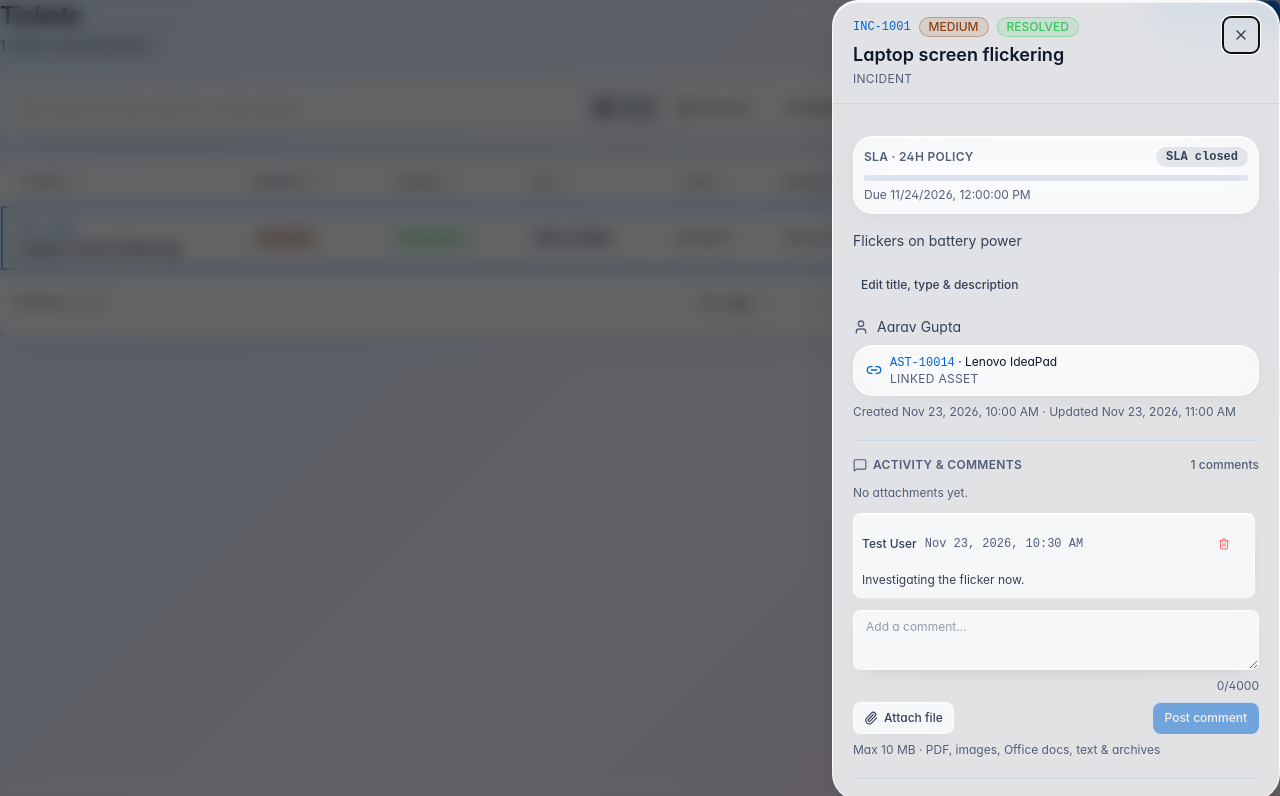
Test case: Tickets backfill B — issue 122 (TFE-18/19/22/23/24/25/27/28/30) › TFE-23: comment delete failure shows FieldError and resets confirm state
Click the button named "Delete comment". click: coordinates (1224, 544)
box: [1202,522,1246,566]
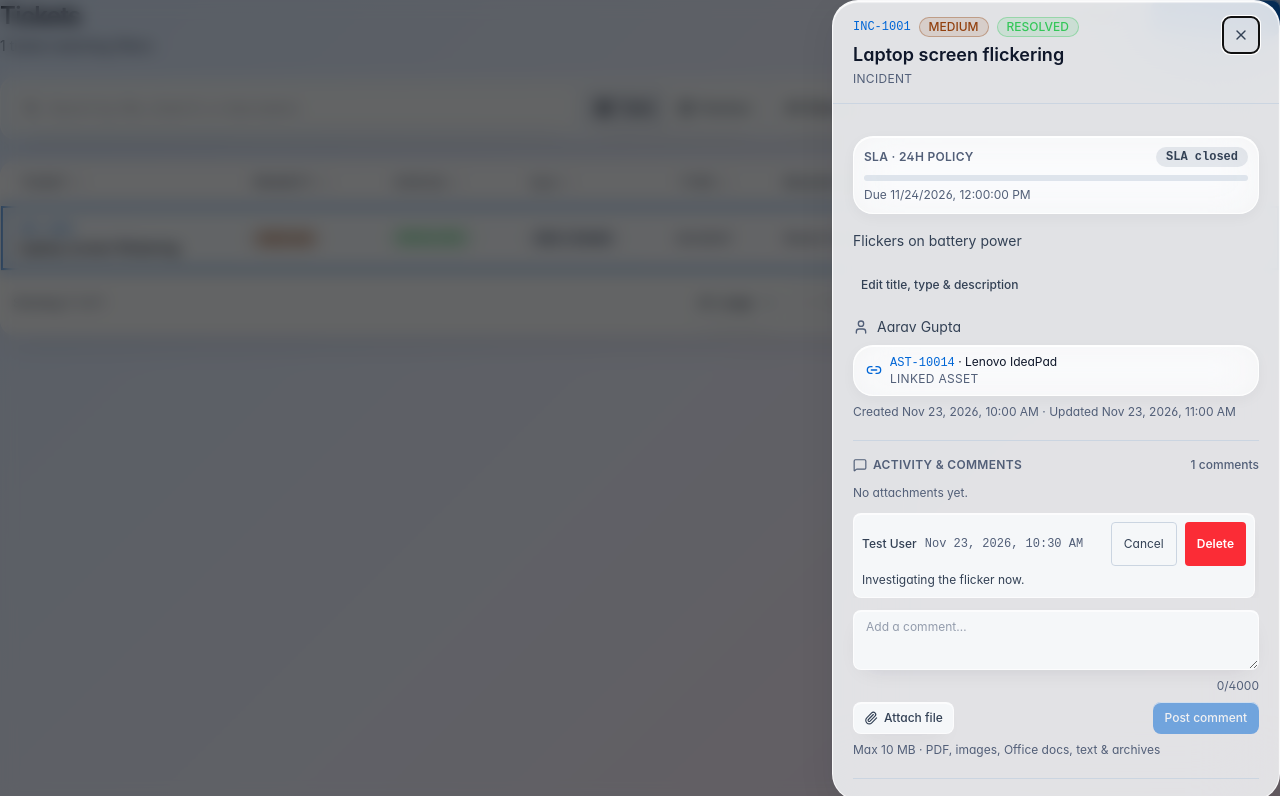
Expected: the button "Delete" is shown
Click the button "Delete". click: coordinates (1215, 544)
box: [1185,522,1246,566]
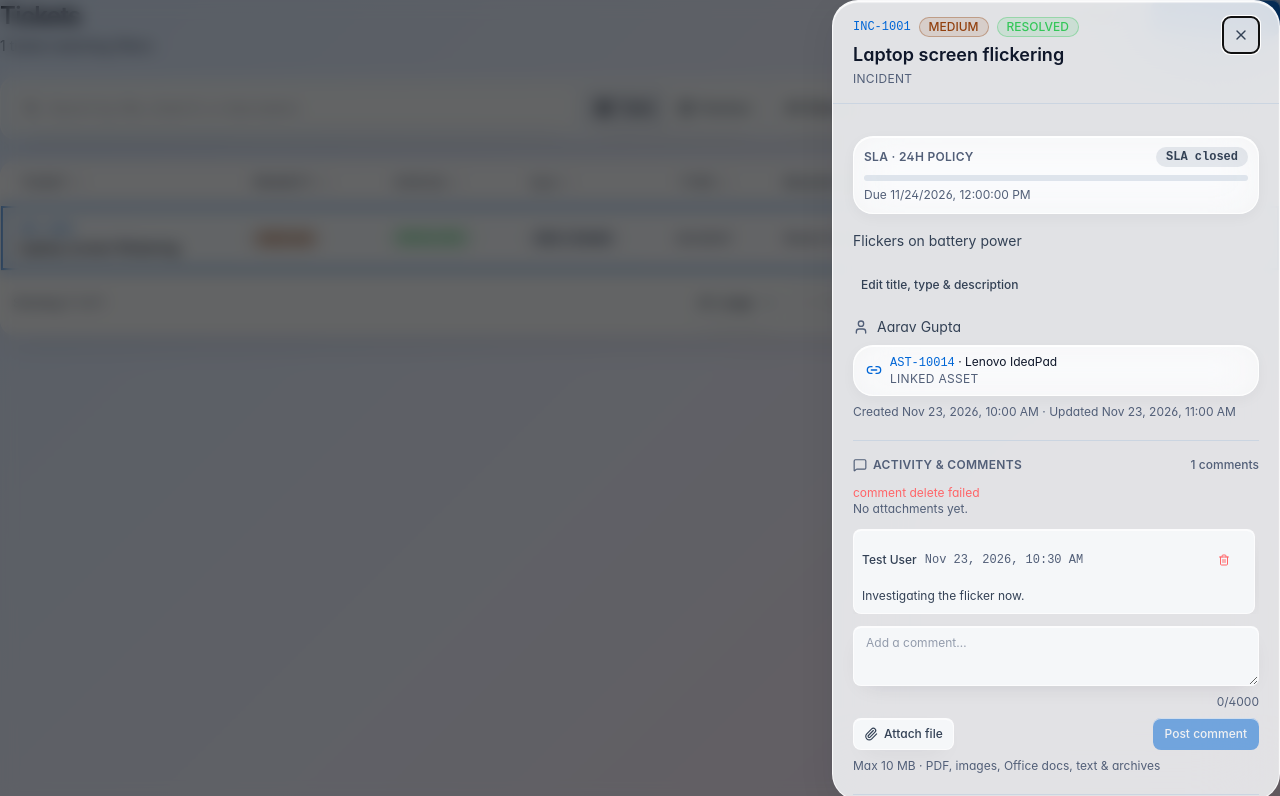
Expected: the text "comment delete failed" is shown, [853,485,980,500]
Expected: the button named "Delete comment" is shown, [1202,538,1246,582]
